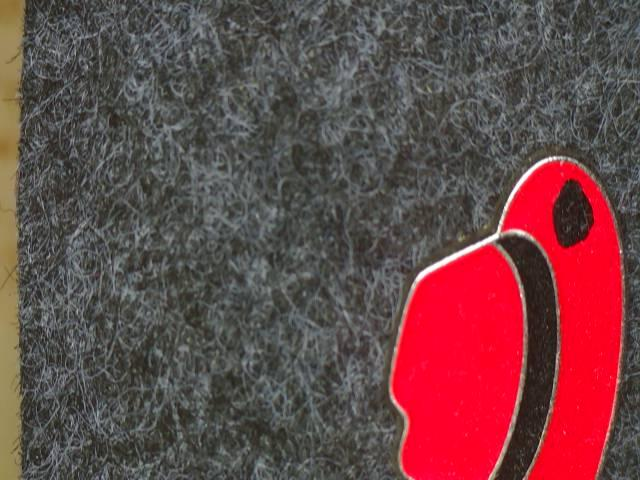Red-Hat: (352, 119, 640, 480)
Scratch: (536, 171, 609, 256)
